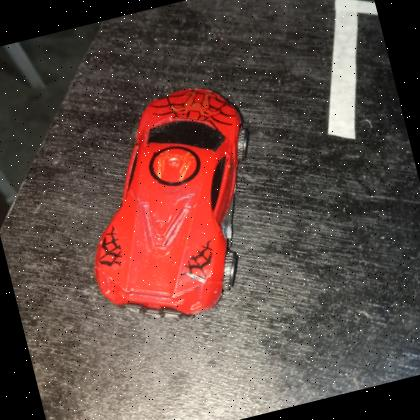Car: (94, 88, 246, 317)
